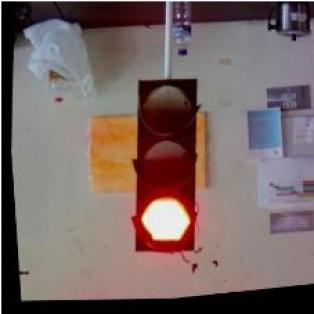Semaforo Rojo: (120, 79, 206, 259)
